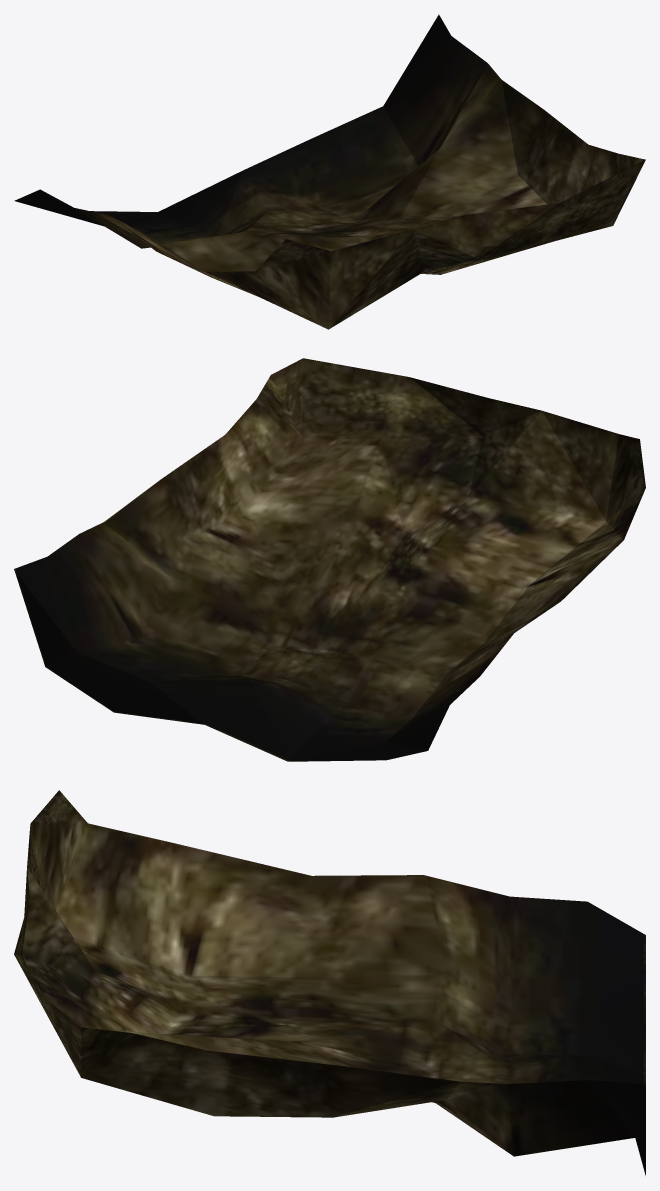
The picture shows the model from 3 angles, top to bottom: view 1: azimuth 30°, elevation 25°; view 2: azimuth 150°, elevation 25°; view 3: azimuth 270°, elevation 25°; orthographic projection. The views are drawn at different scales.
Visible parts, largest first — view 1: model_object06; view 2: model_object06; view 3: model_object06.
Boxes of the visible parts, bbox=[...] form: model_object06: bbox=[14, 14, 645, 329]; model_object06: bbox=[14, 358, 645, 761]; model_object06: bbox=[14, 790, 645, 1175].
Bounding box in the file's own units: 4.55 × 1.83 × 4.83.
1 material, 1 textured.
